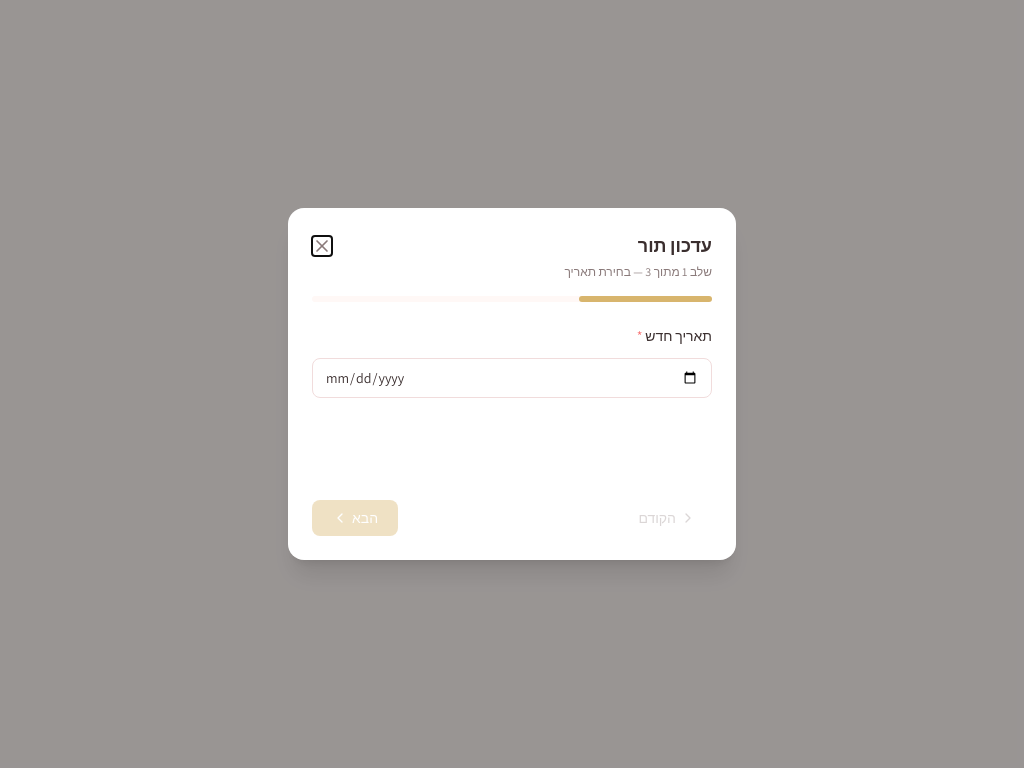
RescheduleModal › surfaces the backend Hebrew error message (e.g. past/non-Scheduled 409) without closing the modal
The width and height of the screenshot is (1024, 768).
Type "2099-01-14" into the date field.
click(512, 378); type("2099-01-14")  # box [312,358,712,398]
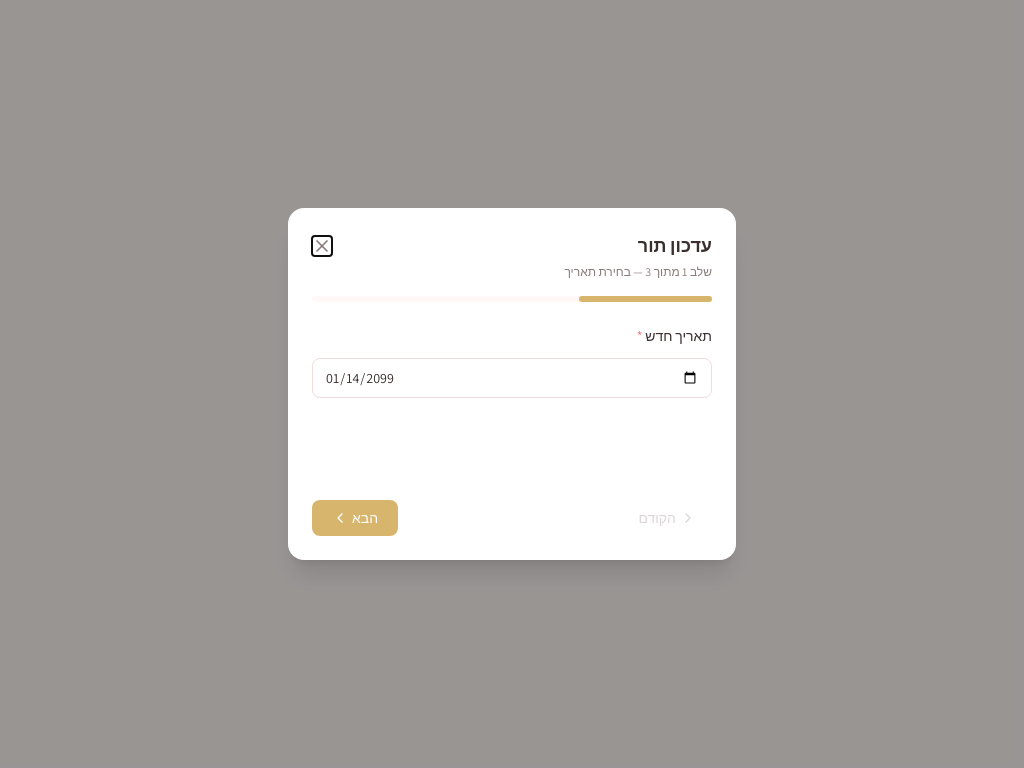
Click the button "הבא".
click(355, 518)  # box [312,500,398,536]
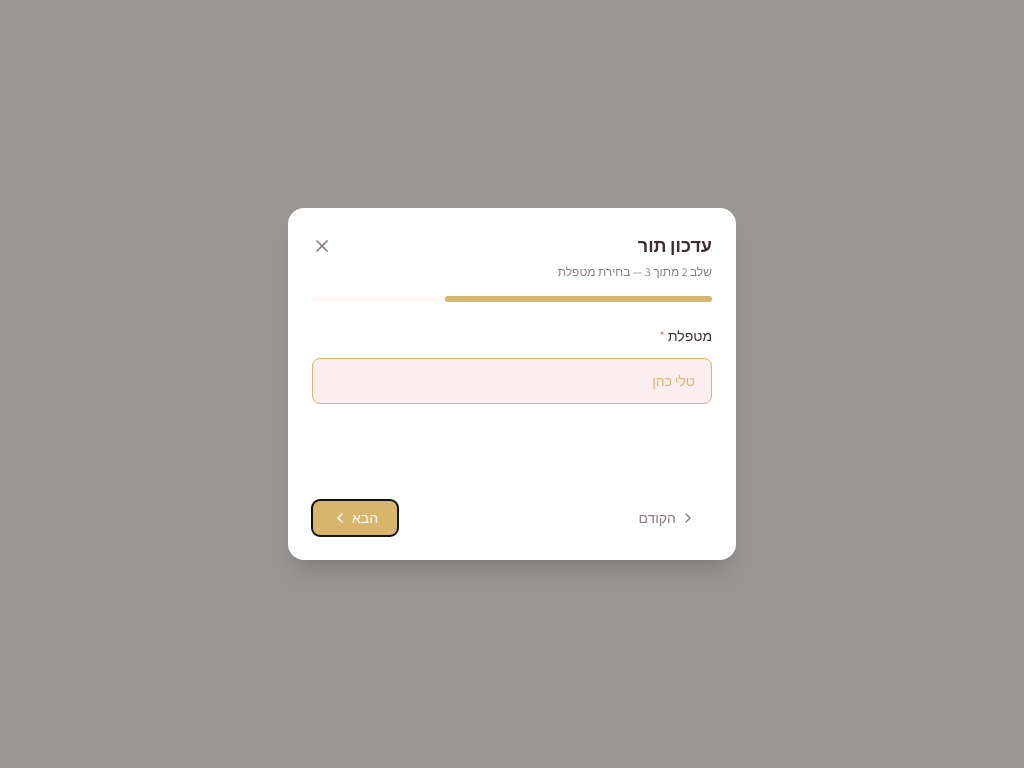
Click the button "טלי כהן".
click(674, 381)  # box [312,358,712,404]
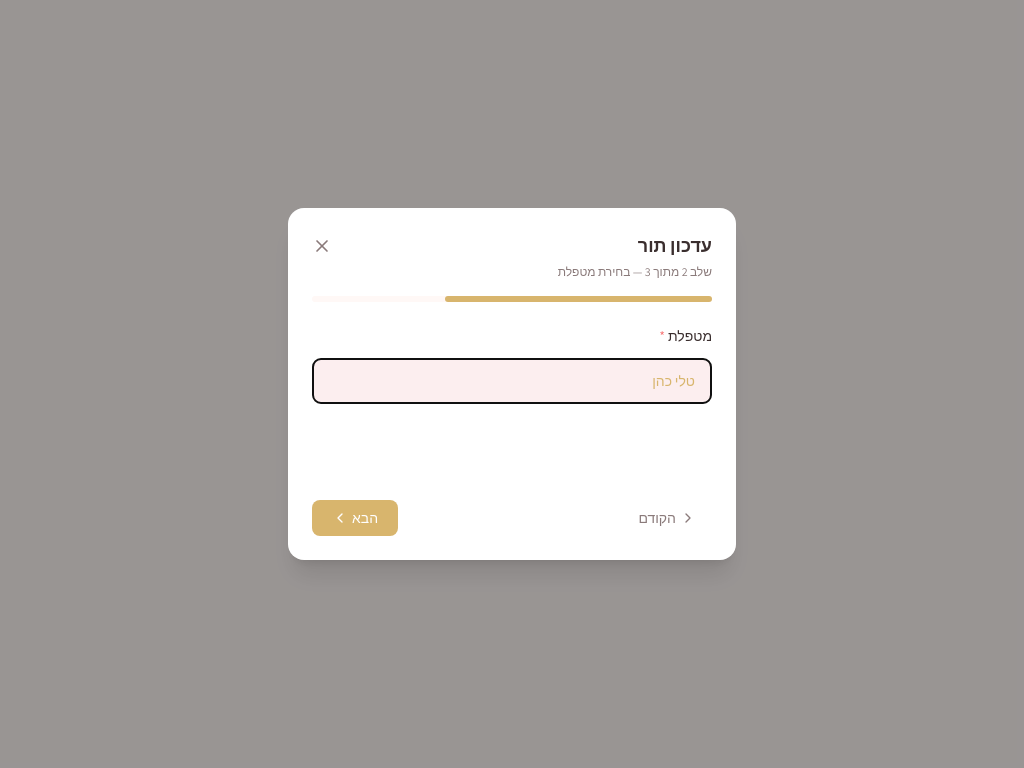
Click the button "הבא".
click(355, 518)  # box [312,500,398,536]
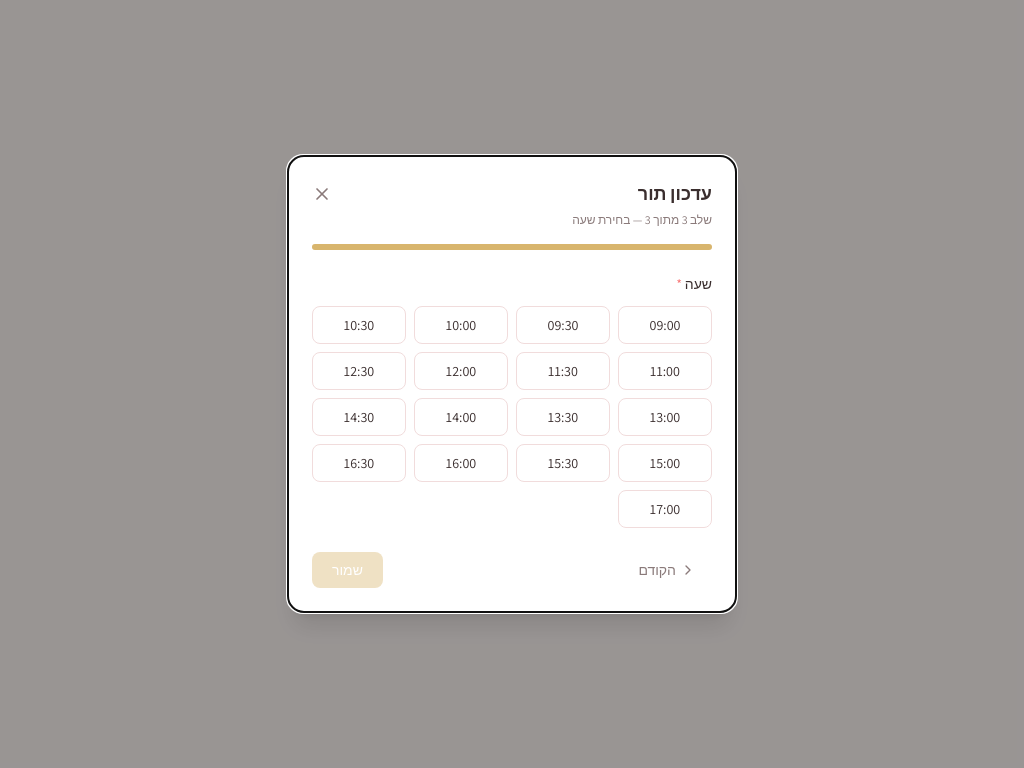
Click the button "09:00".
click(665, 325)  # box [618,306,712,344]
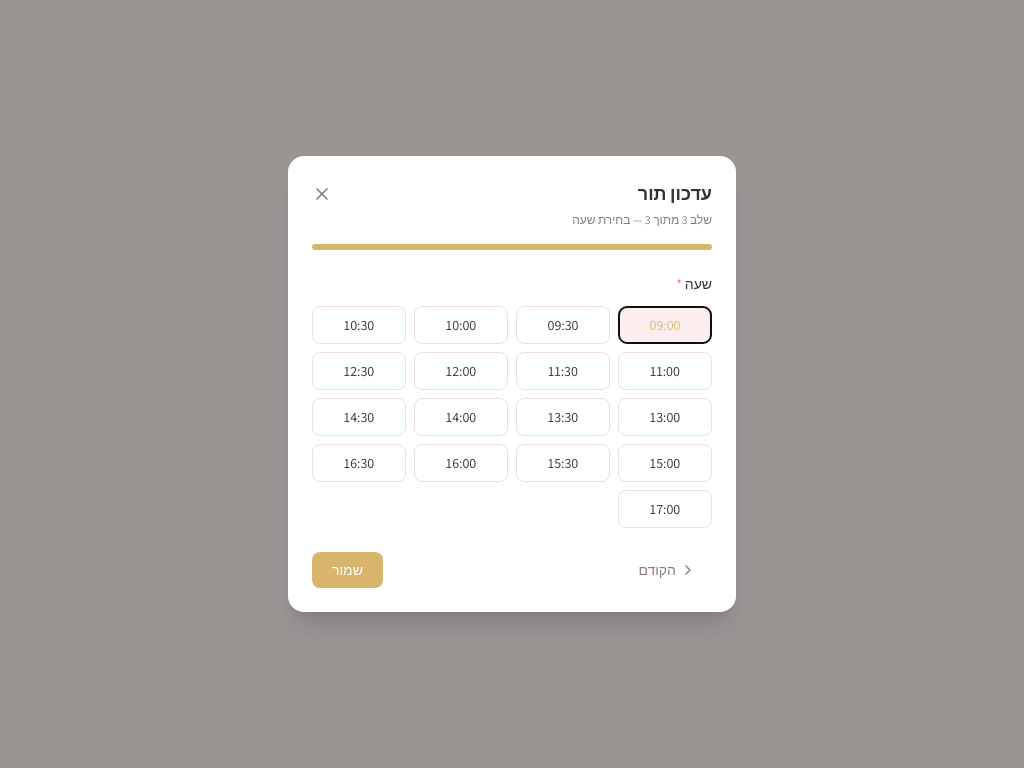
Click the button "שמור".
click(348, 570)  # box [312,552,383,588]
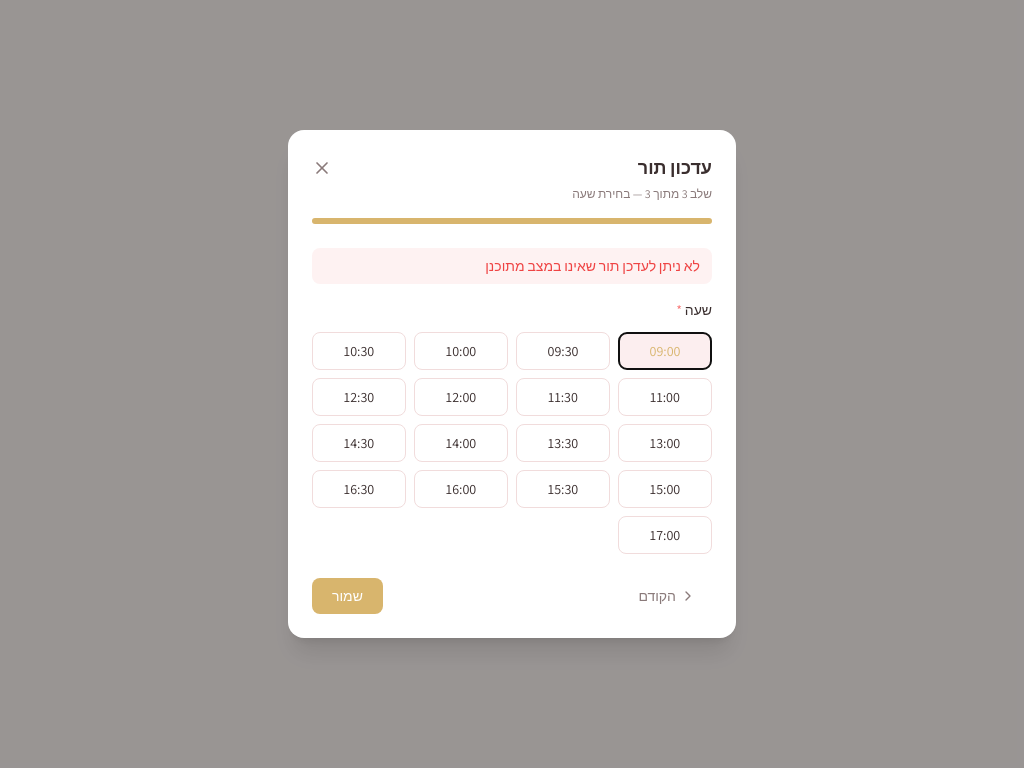
expect the text "לא ניתן לעדכן תור שאינו במצב מתוכנן" is shown: met, box [312,248,712,284]
